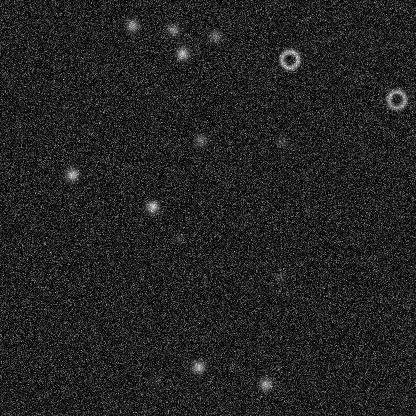Ring: (277, 47, 301, 71), (384, 87, 408, 111)
Spot: (64, 166, 80, 182), (190, 358, 206, 374), (270, 269, 286, 285), (124, 17, 140, 33), (257, 376, 273, 392), (174, 45, 190, 61), (170, 229, 186, 245), (165, 21, 181, 37), (144, 198, 160, 214), (273, 133, 289, 149), (192, 131, 208, 147), (147, 372, 163, 388), (207, 28, 223, 44)
